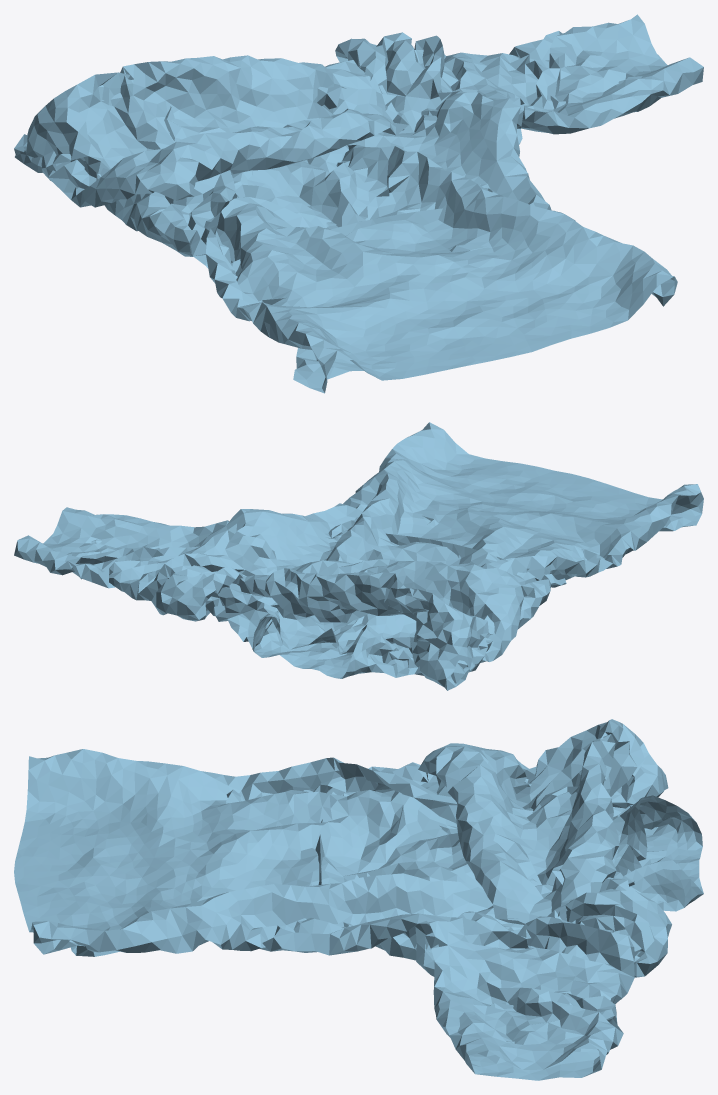
File: frame_20.glb
3 renders of one model, top to bottom at view 1: azimuth 30°, elevation 25°; view 2: azimuth 150°, elevation 25°; view 3: azimuth 270°, elevation 25°, orthographic. The views are drawn at different scales.
Parts seen in each view (by area): view 1: frame_20.obj; view 2: frame_20.obj; view 3: frame_20.obj.
Boxes of the visible parts, x1,y1,x2,y2 form: frame_20.obj: [14, 14, 703, 393]; frame_20.obj: [14, 422, 703, 690]; frame_20.obj: [14, 719, 703, 1080].
Bounding box in the file's own units: 1.38 × 0.2332 × 1.35.
